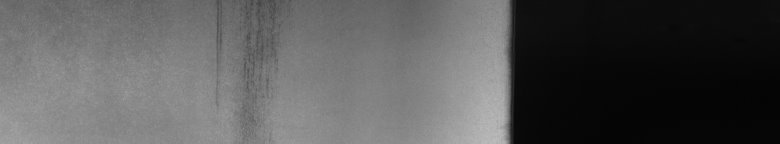ka: (212, 4, 280, 106)
